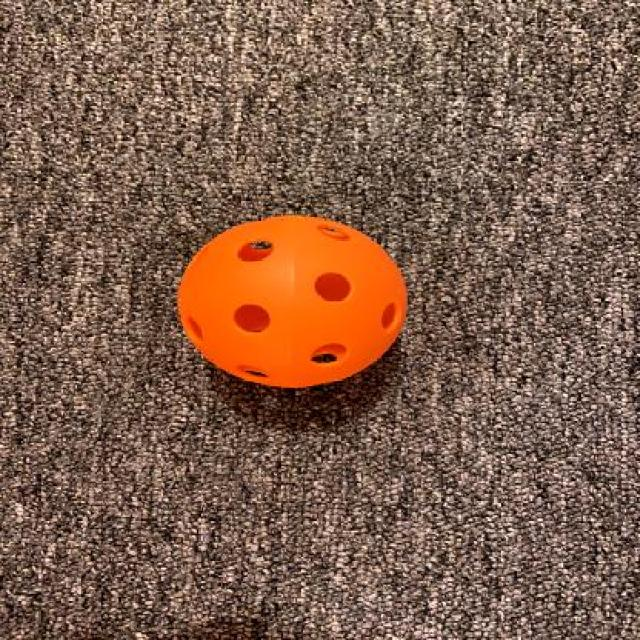ball: (179, 216, 418, 392)
